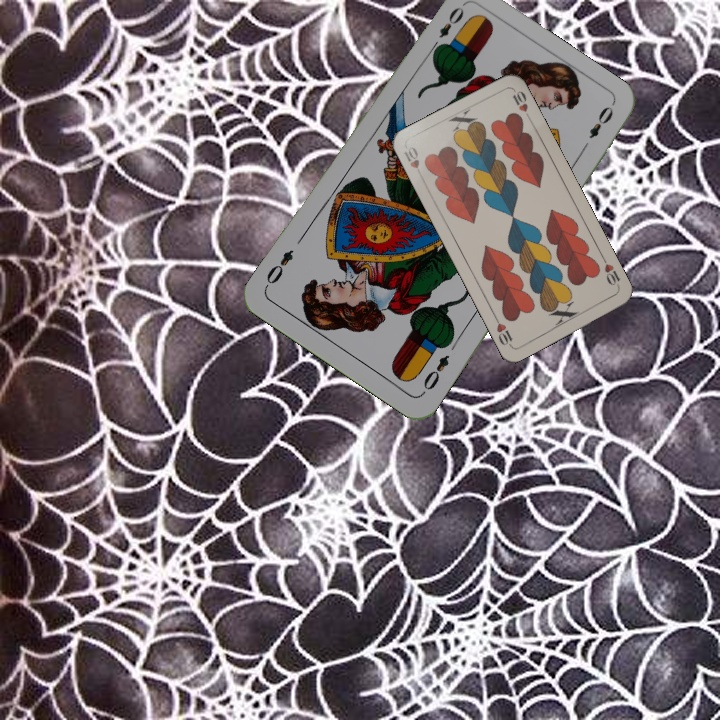EO: (426, 2, 467, 54), (418, 350, 452, 397)
H10: (400, 142, 425, 181), (598, 253, 623, 291)
